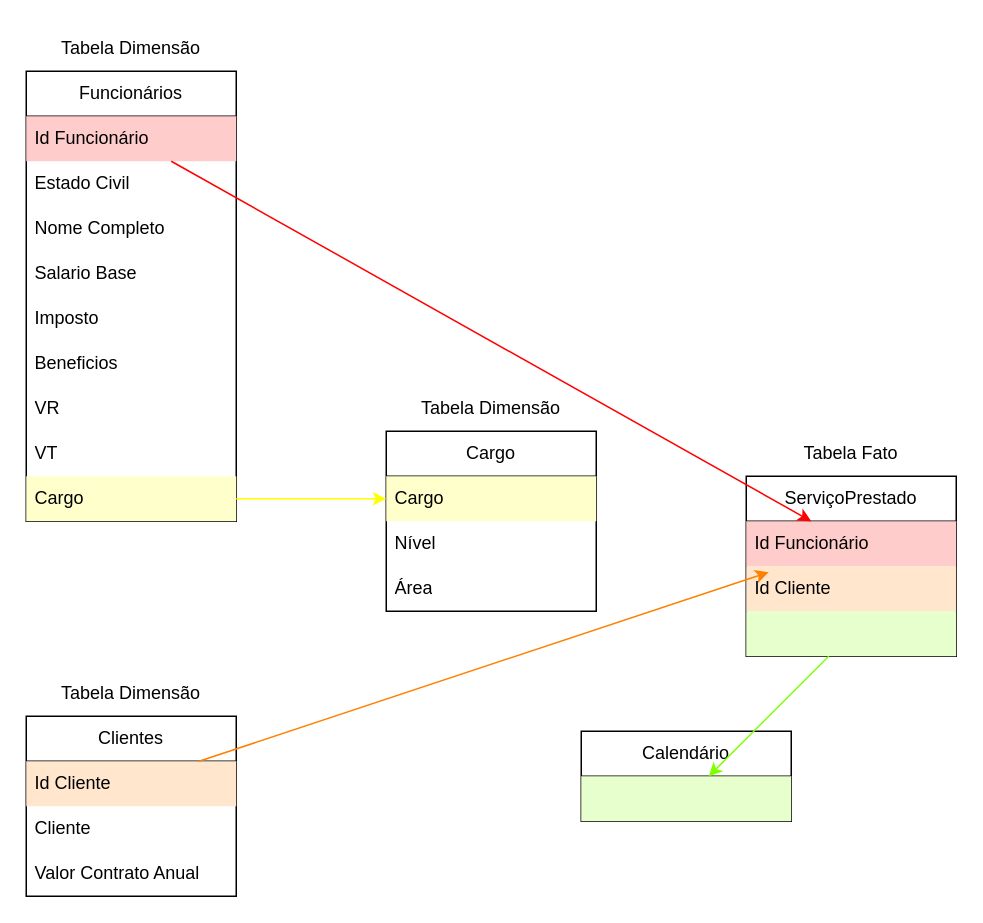
This 983x923 diagram has some shape labels left out. Each missing label, with the centre of its shape:
Data: the point at 685,798
Data Da Contratação: the point at 851,633
